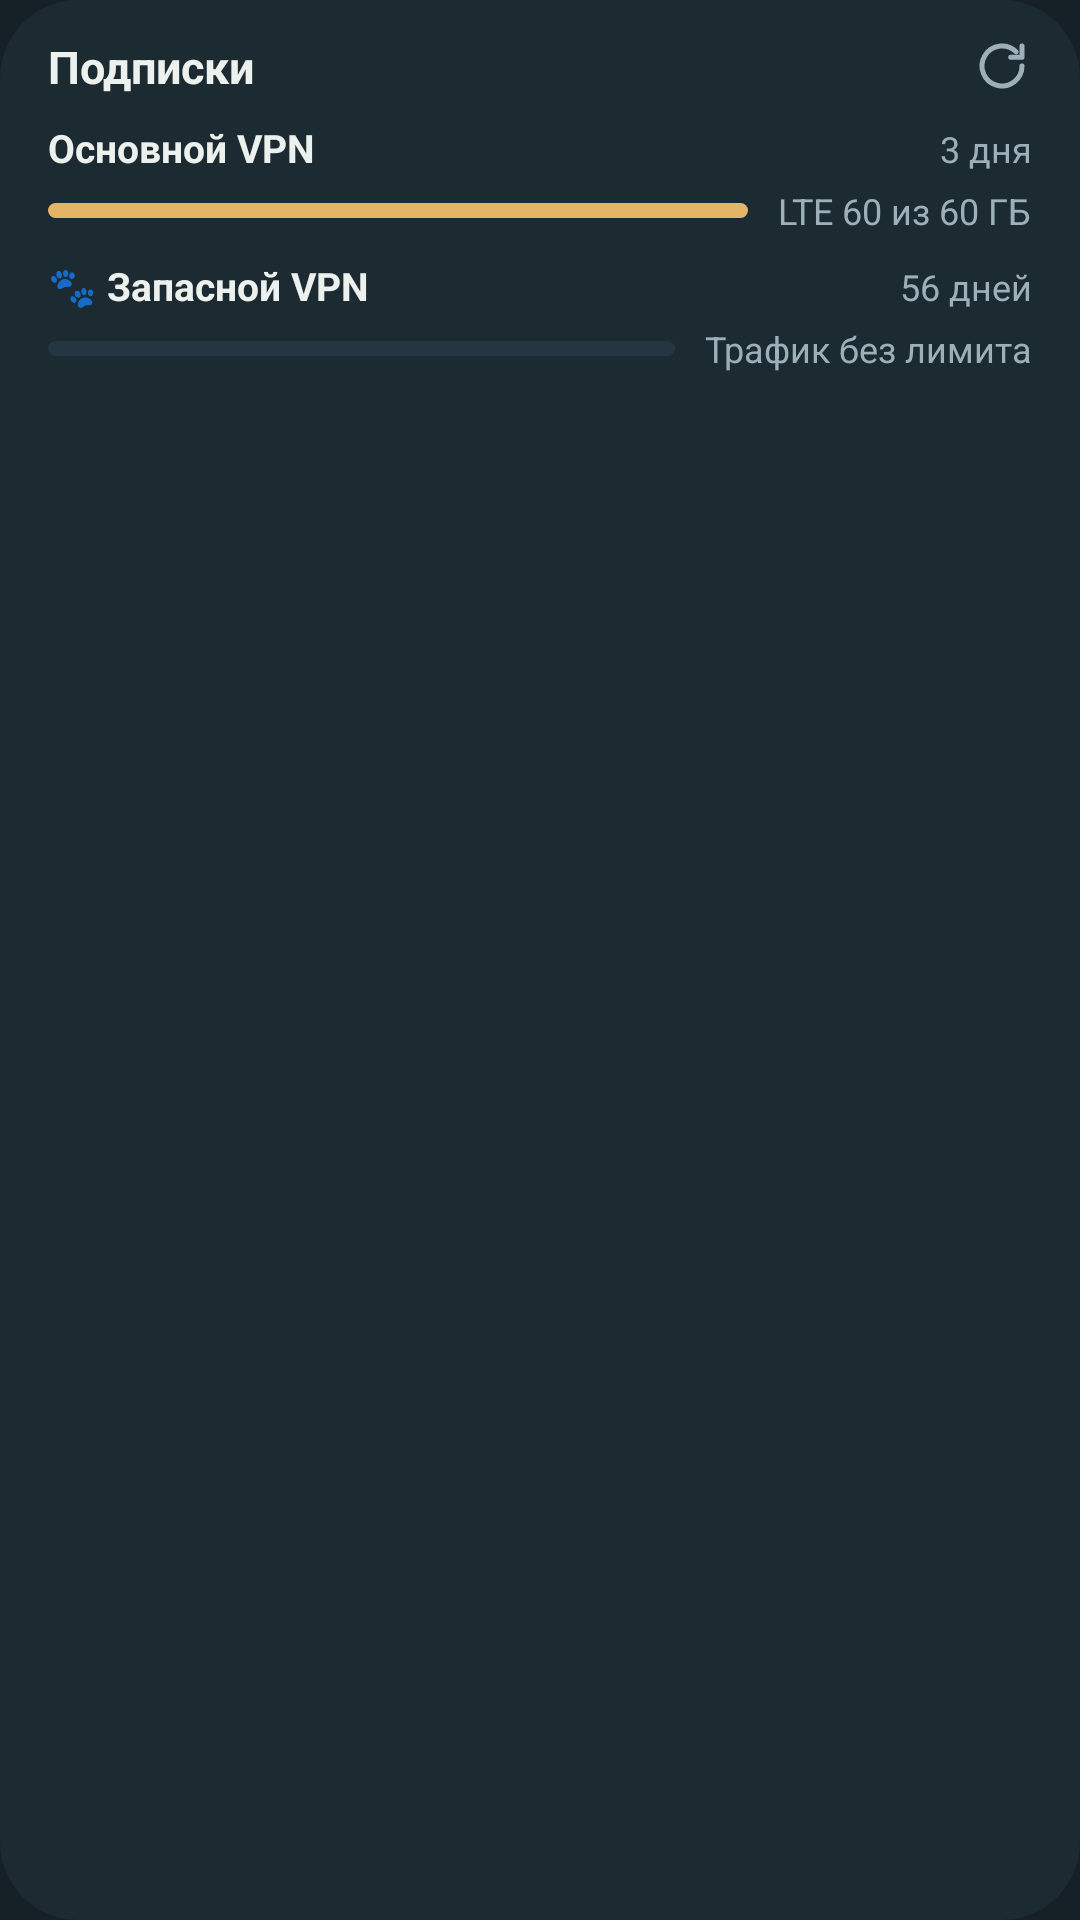

Icon bounding boxes for this 1080*1920 phone screenshot, format (x1, y1, x2, y2):
refresh: (979, 43, 1025, 89)
